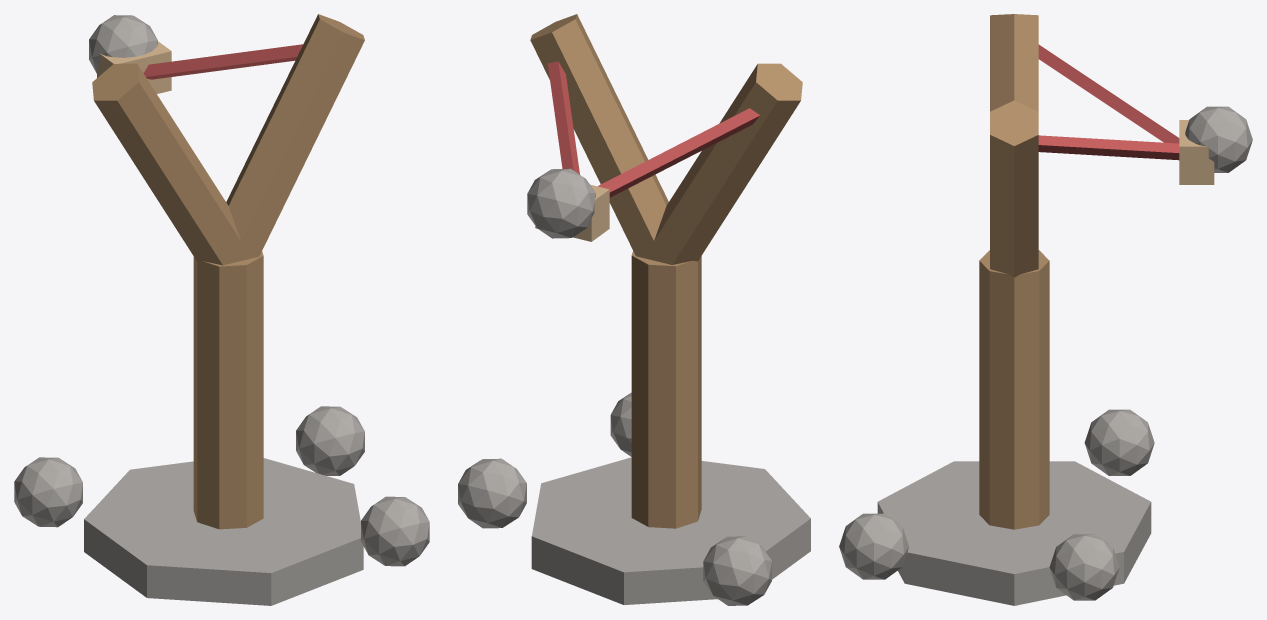
File: steinschleuder.glb
The picture shows the model from 3 angles, left to right: view 1: azimuth 30°, elevation 25°; view 2: azimuth 150°, elevation 25°; view 3: azimuth 270°, elevation 25°; orthographic projection. The views are drawn at different scales.
Visible parts, largest first — view 1: stein_7, holz_0, holz_2, holz_1, stein_9, stein_10, stein_8, gummi_4, stein_6, holz_hell_5; view 2: stein_7, holz_0, holz_1, holz_2, stein_8, stein_10, stein_6, gummi_3, gummi_4, stein_9, holz_hell_5; view 3: stein_7, holz_0, holz_2, holz_1, stein_9, stein_10, stein_8, stein_6, gummi_4, gummi_3, holz_hell_5.
Boxes of the visible parts, box(x1,y1,x2,y2) form: stein_7: box(84, 458, 363, 605); holz_0: box(193, 251, 263, 529); holz_2: box(226, 14, 364, 262); holz_1: box(92, 63, 251, 265); stein_9: box(361, 496, 429, 566); stein_10: box(14, 457, 82, 527); stein_8: box(296, 406, 364, 475); gummi_4: box(143, 44, 302, 79); stein_6: box(89, 15, 157, 73); holz_hell_5: box(97, 41, 171, 93); stein_7: box(531, 457, 810, 604); holz_0: box(631, 251, 701, 528); holz_1: box(643, 63, 802, 264); holz_2: box(530, 14, 668, 257); stein_8: box(458, 458, 526, 528); stein_10: box(703, 536, 771, 605); stein_6: box(527, 168, 595, 238); gummi_3: box(597, 108, 759, 197); gummi_4: box(547, 61, 579, 174); stein_9: box(610, 392, 631, 456); holz_hell_5: box(535, 184, 609, 241); stein_7: box(877, 461, 1151, 605); holz_0: box(979, 250, 1049, 529); holz_2: box(990, 100, 1038, 277); holz_1: box(990, 14, 1038, 111); stein_9: box(839, 513, 908, 579); stein_10: box(1084, 409, 1154, 475); stein_8: box(1049, 534, 1119, 600); stein_6: box(1185, 106, 1252, 172); gummi_4: box(1038, 135, 1179, 160); gummi_3: box(1038, 44, 1179, 143); holz_hell_5: box(1179, 120, 1214, 184).
Size of the model in its own units: 0.52 by 0.7701 by 0.59.
